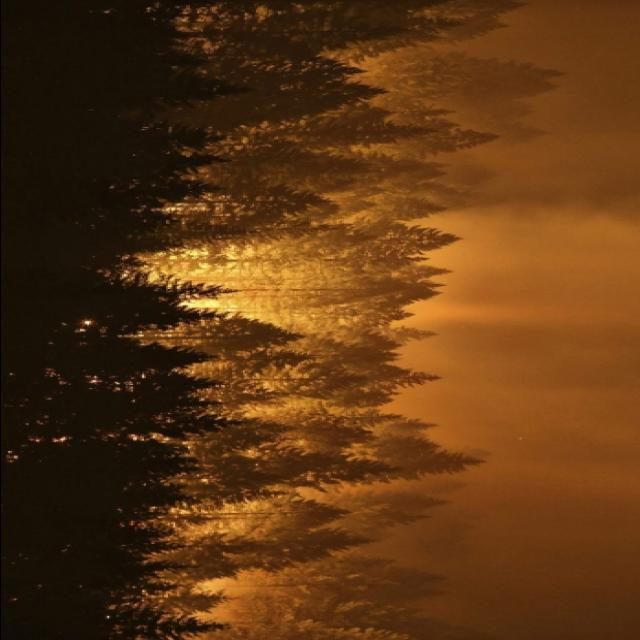Fire: (156, 242, 328, 624)
